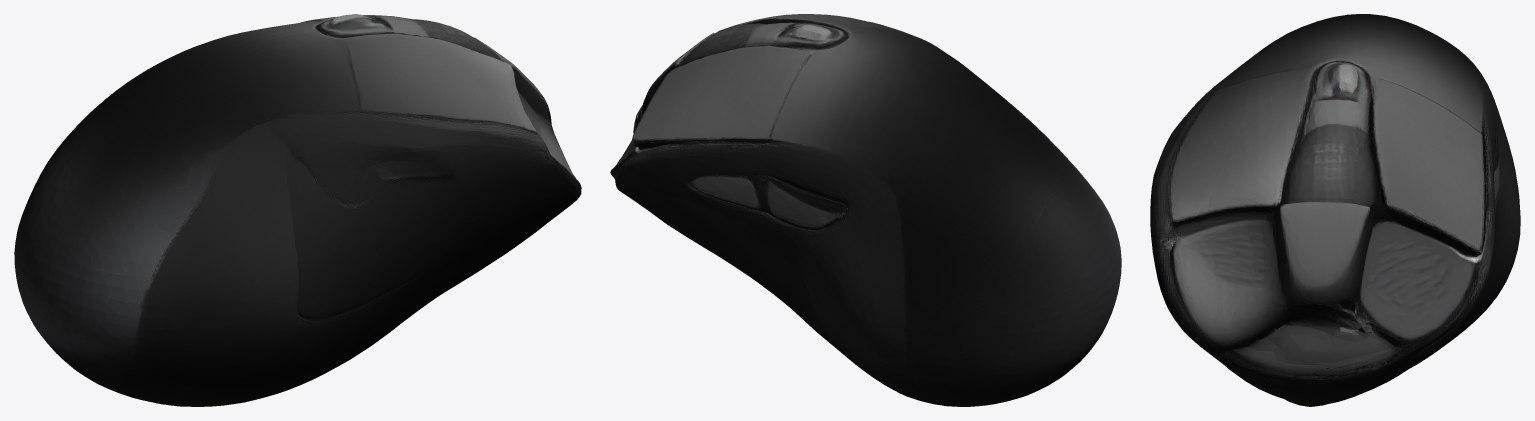
3 views of the same model, side by side, from view 1: azimuth 30°, elevation 25°; view 2: azimuth 150°, elevation 25°; view 3: azimuth 270°, elevation 25° (orthographic). The views are drawn at different scales.
Visible parts, largest first — view 1: world; view 2: world; view 3: world.
Part boxes in pixels (left/top/right/bottom): world: left=14, top=14, right=581, bottom=406; world: left=610, top=14, right=1121, bottom=406; world: left=1150, top=14, right=1520, bottom=406.
Bounding box in the file's own units: 0.6463 × 0.4236 × 0.3849.
1 material, 1 textured.
